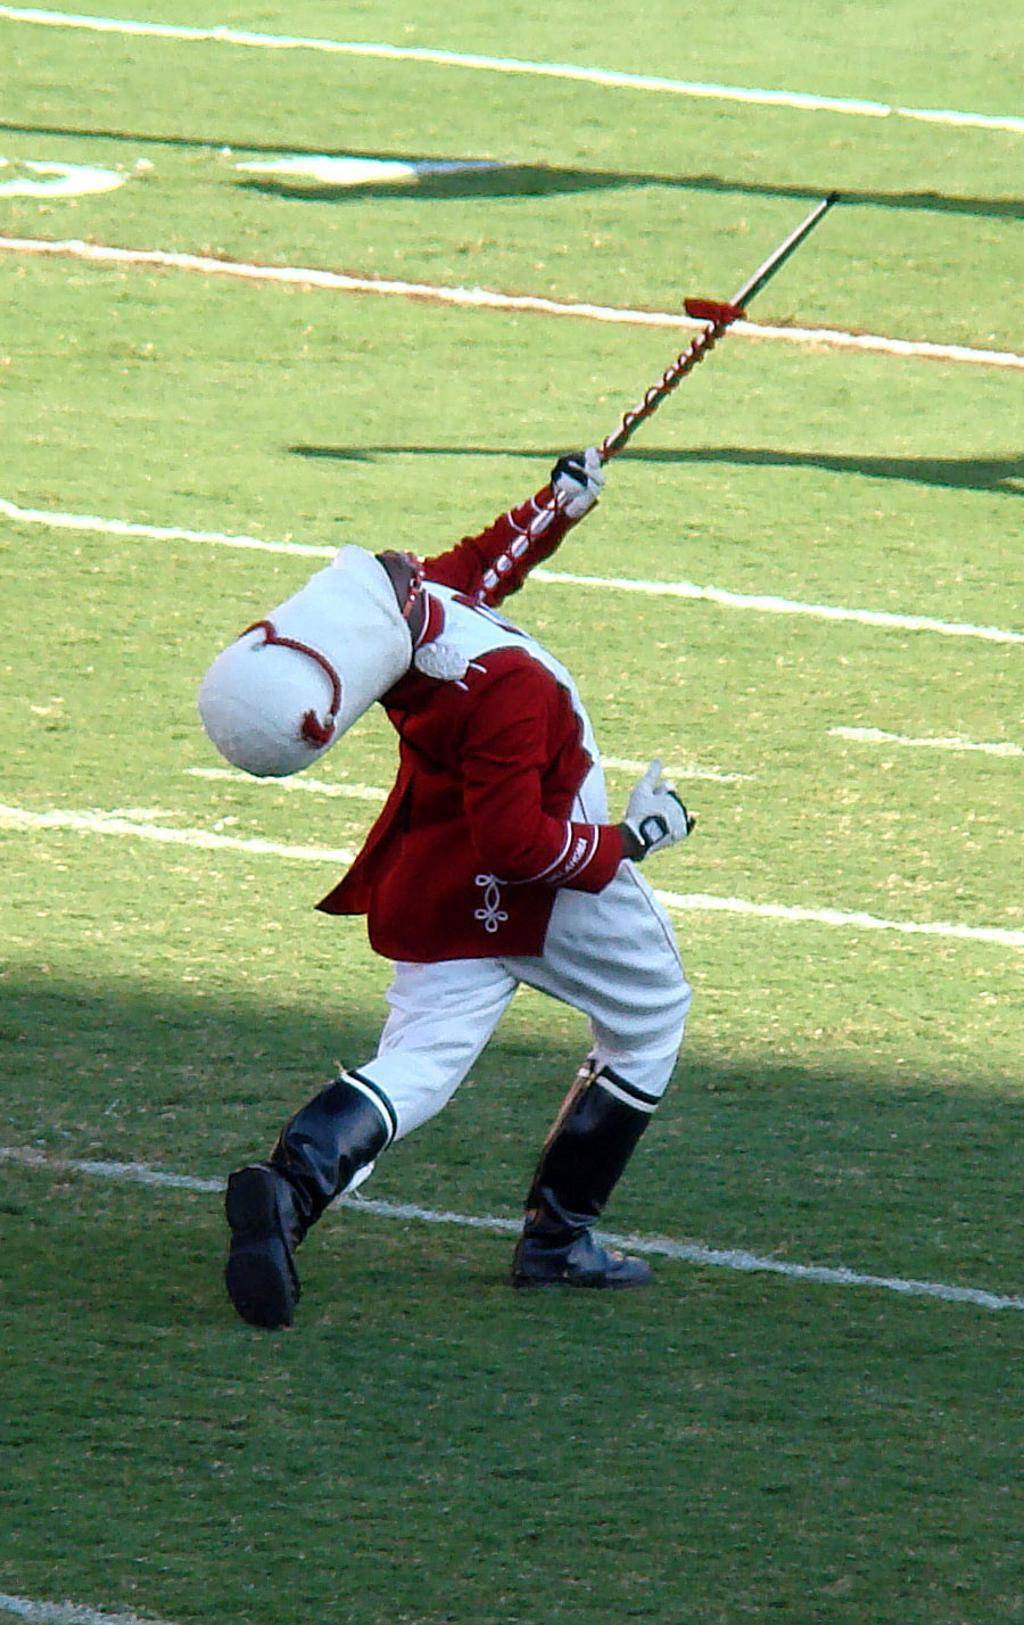face: (315, 553, 429, 639)
